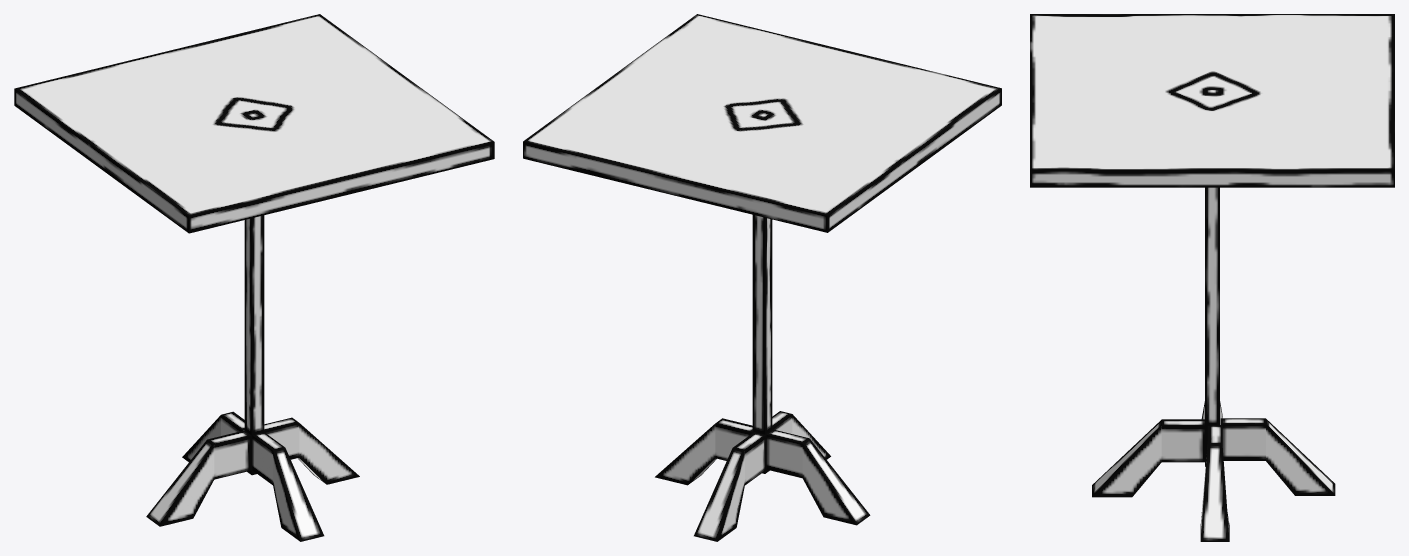
File: Table01.glb
3 views of the same model, side by side, from view 1: azimuth 30°, elevation 25°; view 2: azimuth 150°, elevation 25°; view 3: azimuth 270°, elevation 25° (orthographic). The views are drawn at different scales.
Parts seen in each view (by area): view 1: Table01; view 2: Table01; view 3: Table01.
Part boxes in pixels (x1,y1,x2,y2): Table01: (14,14,494,541); Table01: (523,14,1001,541); Table01: (1030,14,1394,541).
Size of the model in its own units: 1.63 by 1.94 by 1.61.
1 material, 1 textured.
